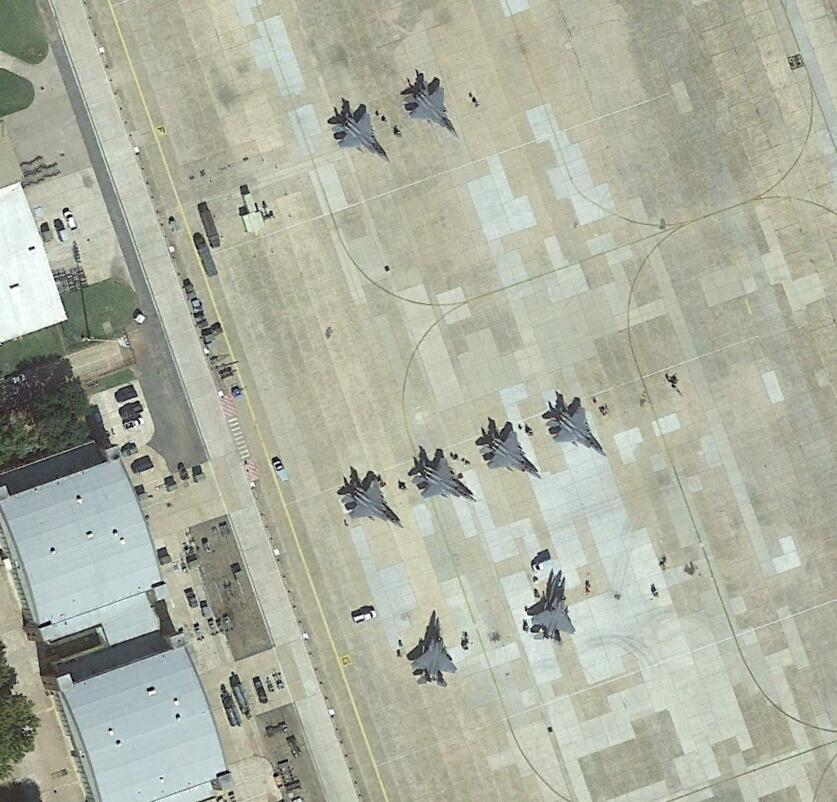A13: (335, 466, 406, 535), (322, 95, 390, 167), (402, 604, 460, 687), (400, 70, 465, 143), (405, 446, 478, 509), (545, 389, 609, 459), (481, 417, 543, 482), (524, 569, 575, 647)
